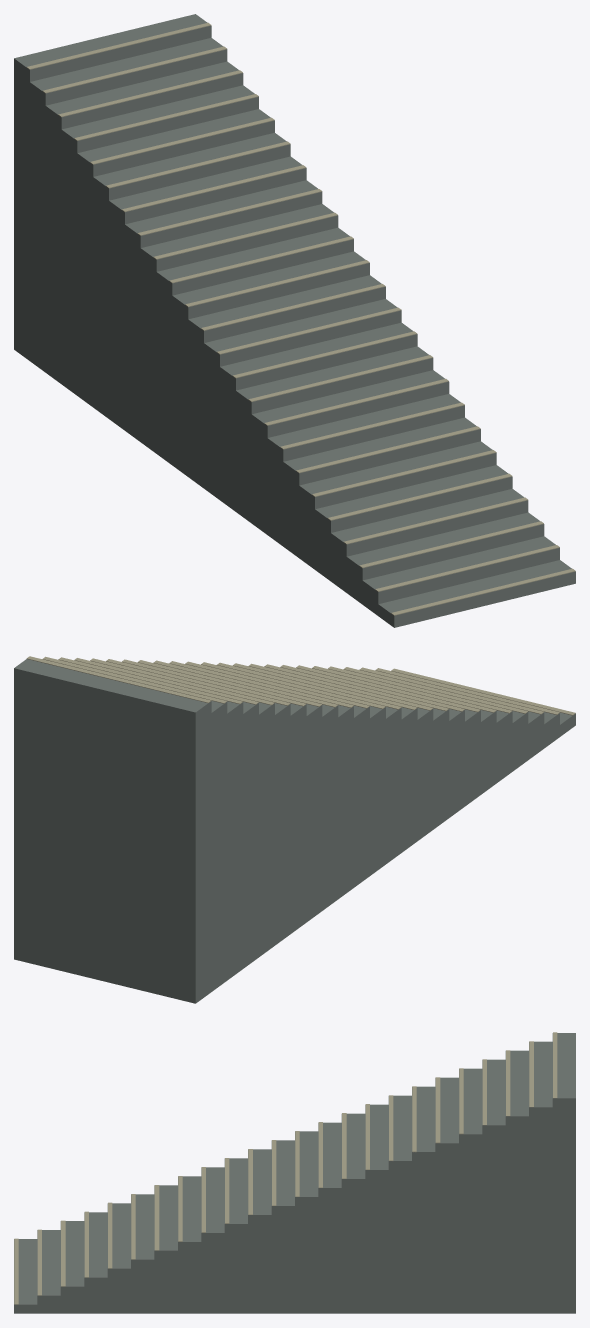
Rendered from staircase.glb.
The picture shows the model from 3 angles, top to bottom: view 1: azimuth 30°, elevation 25°; view 2: azimuth 150°, elevation 25°; view 3: azimuth 270°, elevation 25°; orthographic projection. The views are drawn at different scales.
Parts seen in each view (by area): view 1: staircase; view 2: staircase; view 3: staircase.
Part boxes in pixels (left/top/right/bottom): staircase: left=14, top=14, right=575, bottom=627; staircase: left=14, top=656, right=575, bottom=1003; staircase: left=14, top=1032, right=575, bottom=1313.
Bounding box in the file's own units: 2.35 × 3.61 × 8.52.
